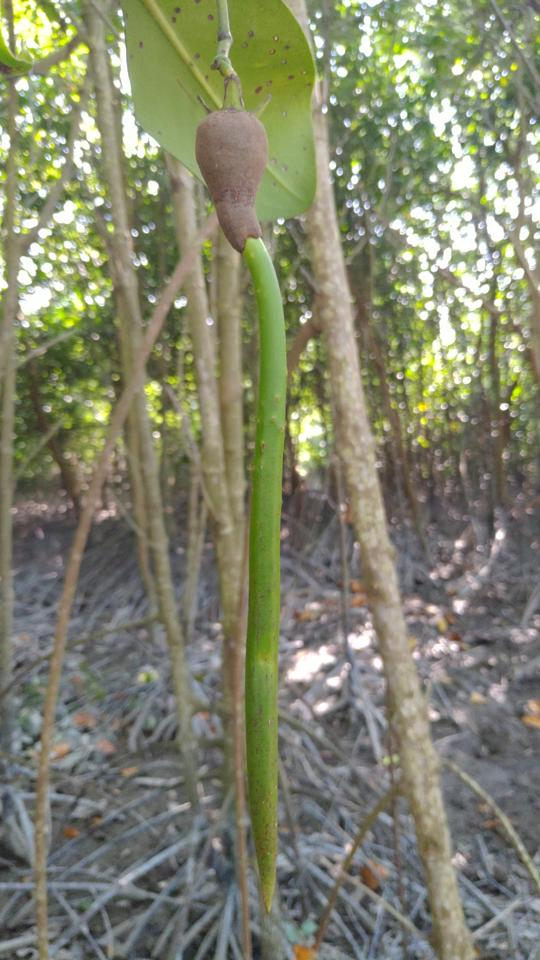mentah: (165, 81, 313, 937)
